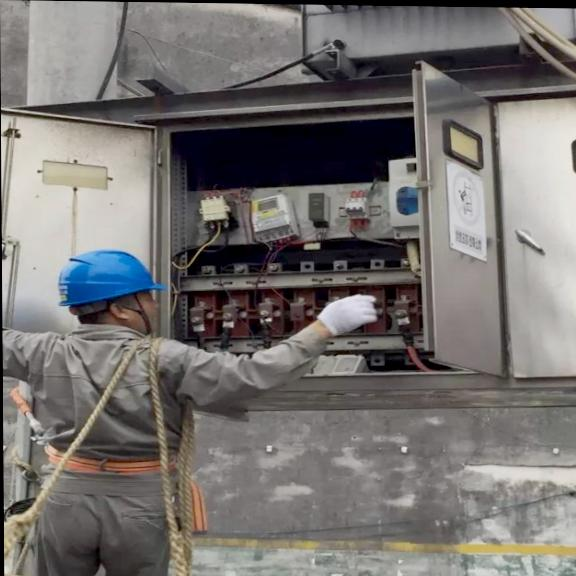no_safety_vest: (9, 309, 194, 479)
